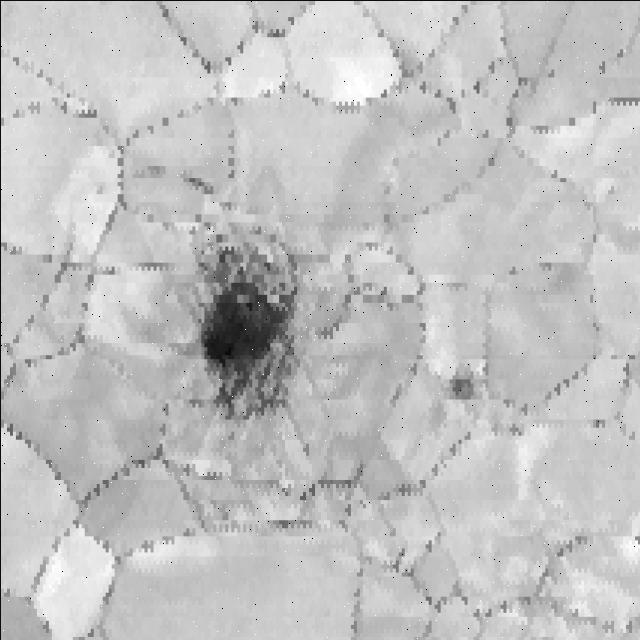good_void: (183, 251, 309, 424), (446, 359, 479, 404), (90, 176, 110, 200)
